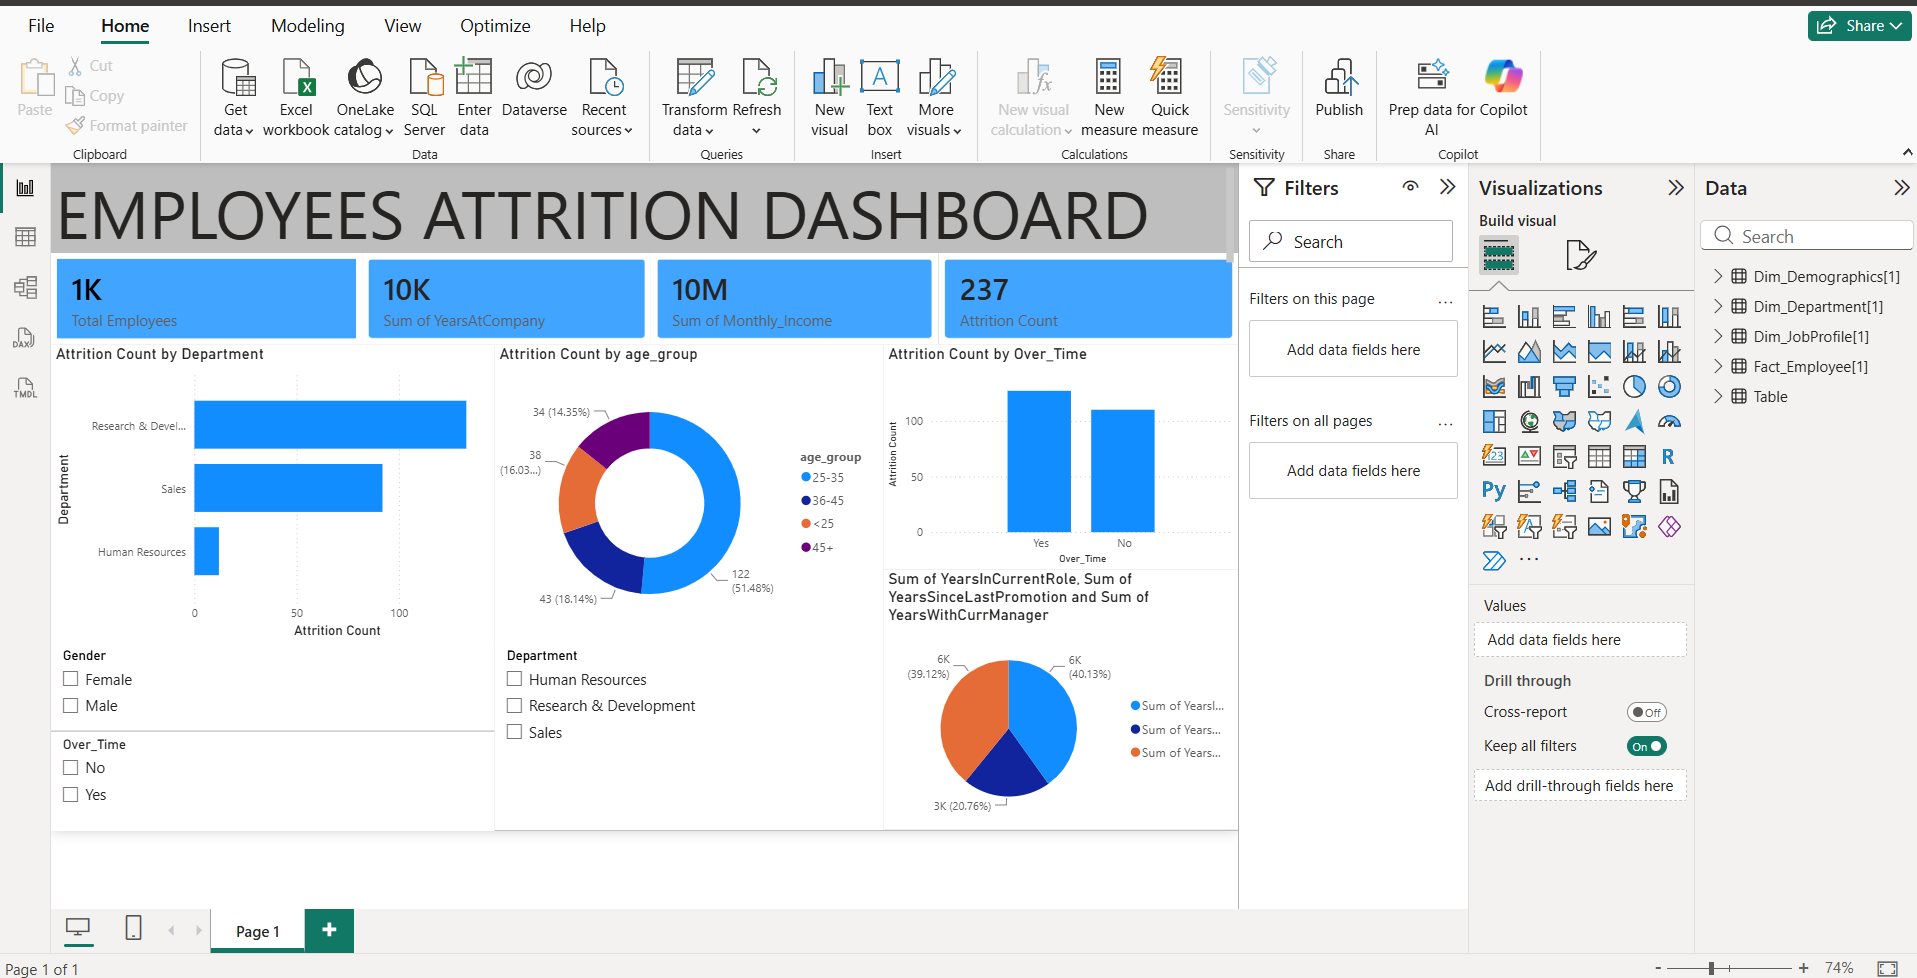

What the dashboard file says about the page in this screenshot:
{"tool":"powerbi","page":{"name":"Page 1","canvas":[1280,720],"ordinal":0},"visuals":[{"type":"cardVisual","fields":{"Data":["Dim_Demographics[1].Total Employees"]},"box":[0,97.3,335.8,98.7],"z":0},{"type":"cardVisual","fields":{"Data":["Dim_Demographics[1].Attrition Count"]},"box":[956.8,97.3,323.5,98.7],"z":1000},{"type":"cardVisual","fields":{"Data":["Sum(Fact_Employee[1].Monthly_Income)"]},"box":[647,97.3,309.8,98.7],"z":2000},{"type":"cardVisual","fields":{"Data":["Sum(Fact_Employee[1].YearsAtCompany)"]},"box":[335.8,97.3,311.2,98.7],"z":3000},{"type":"clusteredBarChart","fields":{"Category":["Dim_Department[1].Department"],"Y":["Dim_Demographics[1].Attrition Count"]},"box":[0,196,478.4,322.1],"z":4000},{"type":"slicer","fields":{"Values":["Dim_Department[1].Department"]},"box":[478.4,518.1,419.4,201.5],"z":5000},{"type":"slicer","fields":{"Values":["Dim_Demographics[1].Gender"]},"box":[0,518.1,478.4,94.6],"z":6000},{"type":"slicer","fields":{"Values":["Dim_JobProfile[1].Over_Time"]},"box":[0,612.7,478.4,106.9],"z":7000},{"type":"donutChart","fields":{"Category":["Dim_Demographics[1].age_group"],"Y":["Dim_Demographics[1].Attrition Count"]},"box":[478.4,196,419.4,322.1],"z":8000},{"type":"textbox","box":[0,0,1280.3,117.9],"z":9000},{"type":"clusteredColumnChart","fields":{"Category":["Dim_JobProfile[1].Over_Time"],"Y":["Dim_Demographics[1].Attrition Count"]},"box":[897.8,196,382.4,242.6],"z":10000},{"type":"pieChart","fields":{"Y":["Sum(Fact_Employee[1].YearsInCurrentRole)","Sum(Fact_Employee[1].YearsSinceLastPromotion)","Sum(Fact_Employee[1].YearsWithCurrManager)"]},"box":[897.8,438.6,382.4,281],"z":11000}]}

Visuals, with their boxes on the page's 1280x720 design canvas (x1, y1, x2, y2). These are canvas units, not pixel positions in the 1917x978 screenshot, which may show the page scaled, cropped or inside an application window:
cardVisual - Dim_Demographics[1].Total Employees: box(0, 97, 336, 196)
cardVisual - Dim_Demographics[1].Attrition Count: box(957, 97, 1280, 196)
cardVisual - Sum(Fact_Employee[1].Monthly_Income): box(647, 97, 957, 196)
cardVisual - Sum(Fact_Employee[1].YearsAtCompany): box(336, 97, 647, 196)
clusteredBarChart - Dim_Department[1].Department x Dim_Demographics[1].Attrition Count: box(0, 196, 478, 518)
slicer - Dim_Department[1].Department: box(478, 518, 898, 720)
slicer - Dim_Demographics[1].Gender: box(0, 518, 478, 613)
slicer - Dim_JobProfile[1].Over_Time: box(0, 613, 478, 720)
donutChart - Dim_Demographics[1].age_group x Dim_Demographics[1].Attrition Count: box(478, 196, 898, 518)
textbox: box(0, 0, 1280, 118)
clusteredColumnChart - Dim_JobProfile[1].Over_Time x Dim_Demographics[1].Attrition Count: box(898, 196, 1280, 439)
pieChart - Sum(Fact_Employee[1].YearsInCurrentRole) x Sum(Fact_Employee[1].YearsSinceLastPromotion): box(898, 439, 1280, 720)
